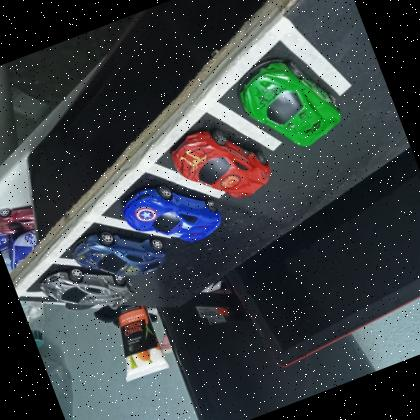Car: (229, 42, 350, 165), (168, 114, 280, 219), (120, 168, 230, 262), (68, 213, 172, 297), (39, 247, 140, 330)
